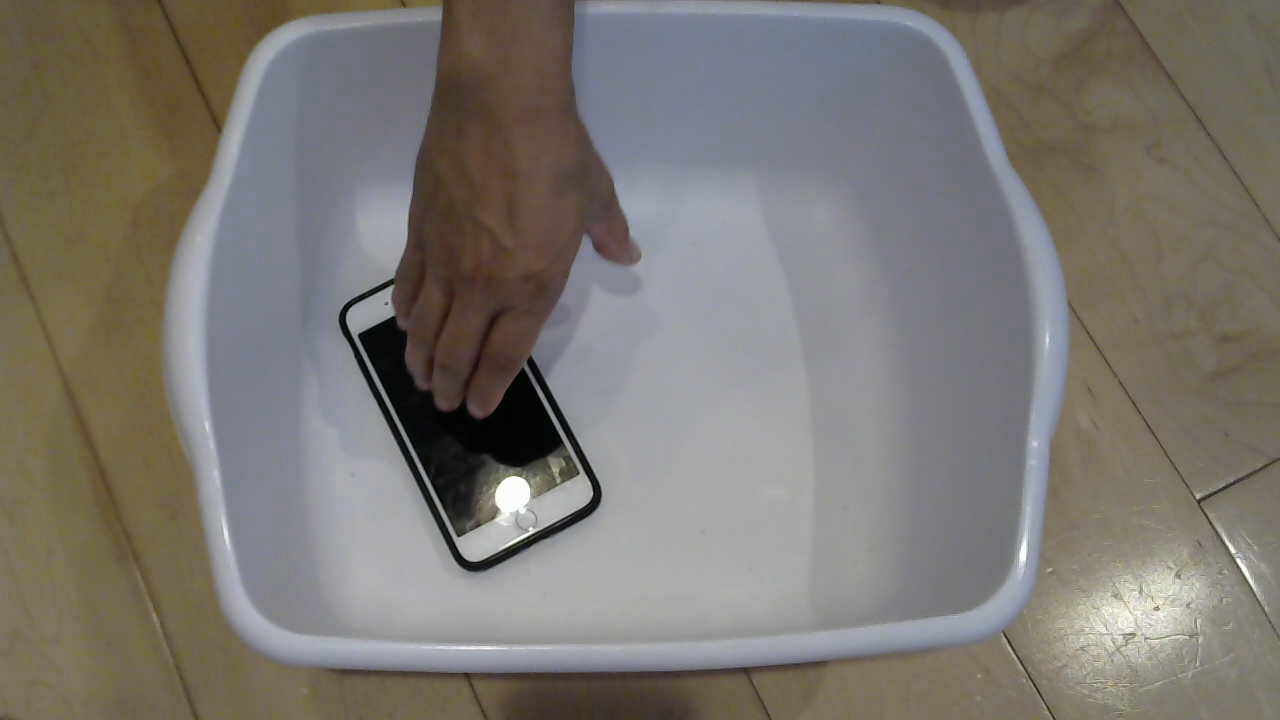phone: (344, 247, 612, 579)
